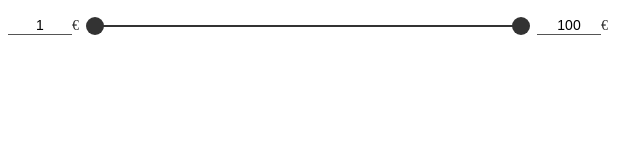
Scenario: Range — normal mode › clamps min label value to min bound
Replace the text in the field showing "1" with "-5" at (40, 26), box [8, 16, 72, 35]
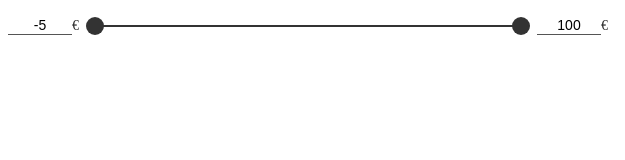
Leave the field showing "1", box [8, 16, 72, 35]
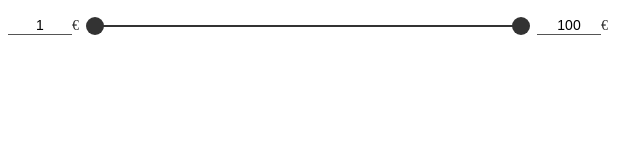
Check: the field showing "1" is shown, box [8, 16, 72, 35]
